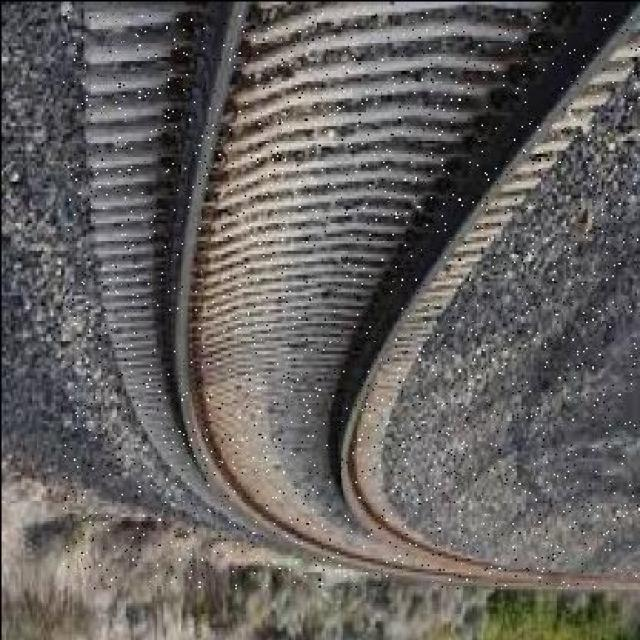rail: (63, 10, 640, 588)
